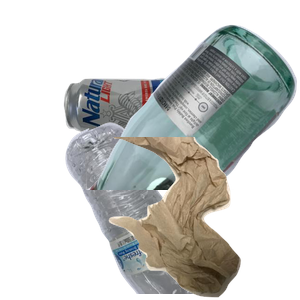glass: (86, 22, 300, 202)
metal: (61, 75, 231, 202)
plastic: (63, 120, 263, 300)
trash: (103, 137, 300, 300)
